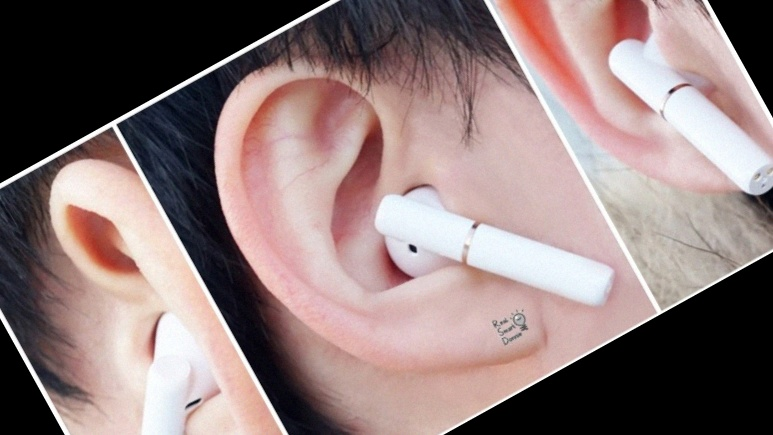earphone: (165, 0, 634, 435), (463, 0, 773, 264)
